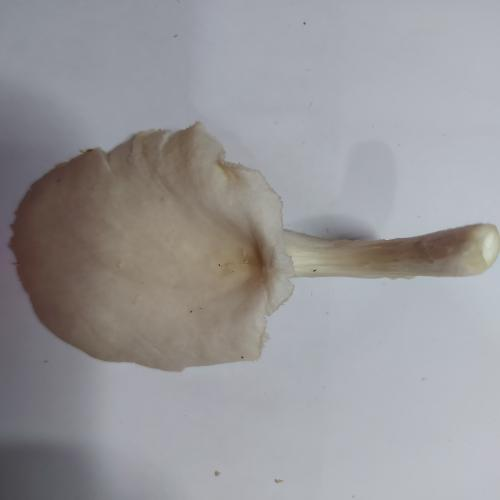Oyster Mushroom: (9, 120, 499, 372)
